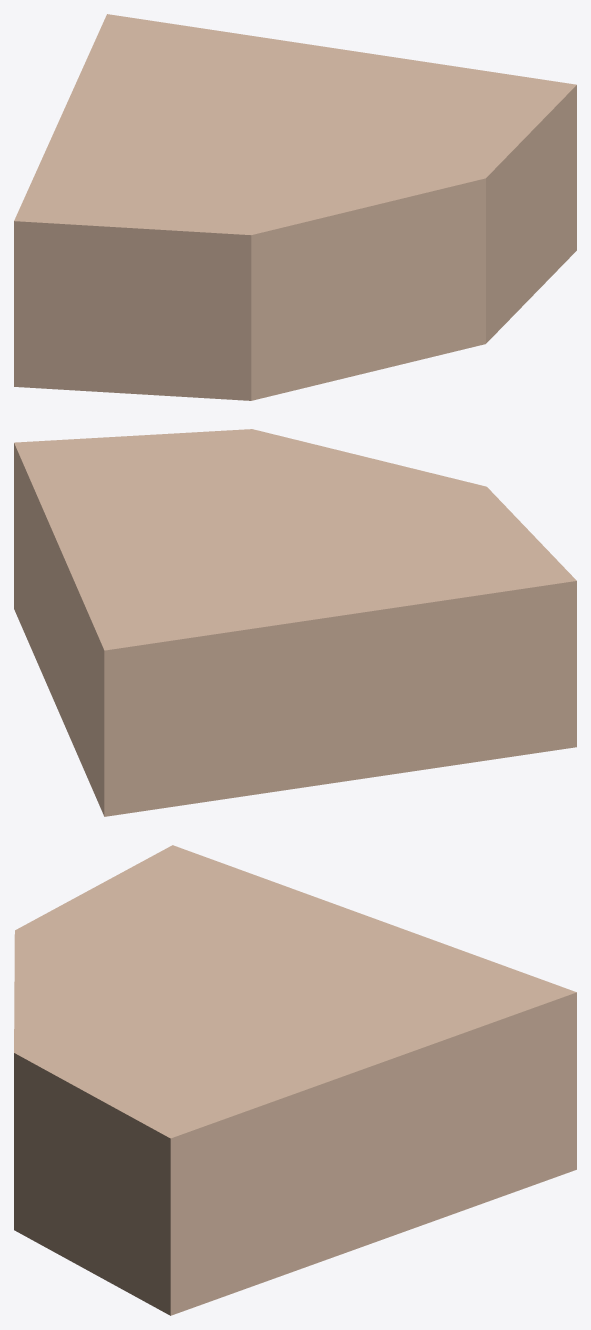
File: SM_Shape_Diamond__02.fbx
3 renders of one model, top to bottom at view 1: azimuth 30°, elevation 25°; view 2: azimuth 150°, elevation 25°; view 3: azimuth 270°, elevation 25°, orthographic. The views are drawn at different scales.
Visible parts, largest first — view 1: SM_Shape_Diamond__02; view 2: SM_Shape_Diamond__02; view 3: SM_Shape_Diamond__02.
Part boxes in pixels (x1,y1,x2,y2): SM_Shape_Diamond__02: [14, 14, 576, 400]; SM_Shape_Diamond__02: [14, 429, 576, 816]; SM_Shape_Diamond__02: [14, 845, 576, 1315].
Size of the model in its own units: 7.4 by 2.09 by 6.
